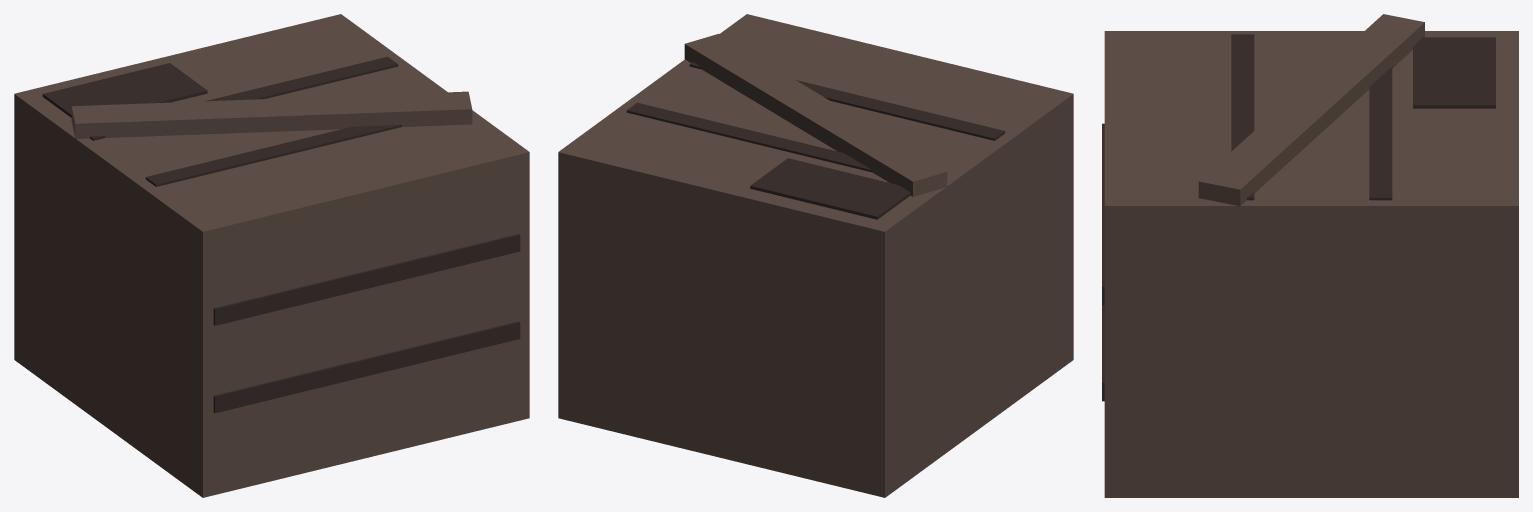
File: oc_wooden_crate.obj
3 views of the same model, side by side, from view 1: azimuth 30°, elevation 25°; view 2: azimuth 150°, elevation 25°; view 3: azimuth 270°, elevation 25° (orthographic). The views are drawn at different scales.
Parts seen in each view (by area): view 1: oc_wooden_crate_0, oc_wooden_crate_5, oc_wooden_crate_3, oc_wooden_crate_4, oc_wooden_crate_6, oc_wooden_crate_1, oc_wooden_crate_2; view 2: oc_wooden_crate_0, oc_wooden_crate_5, oc_wooden_crate_6, oc_wooden_crate_2, oc_wooden_crate_1; view 3: oc_wooden_crate_0, oc_wooden_crate_5, oc_wooden_crate_6, oc_wooden_crate_2, oc_wooden_crate_1, oc_wooden_crate_4.
Boxes of the visible parts, x1,y1,x2,y2 form: oc_wooden_crate_0: (14,14,529,497); oc_wooden_crate_5: (71,91,472,138); oc_wooden_crate_3: (213,321,520,413); oc_wooden_crate_4: (213,234,520,325); oc_wooden_crate_6: (42,63,207,117); oc_wooden_crate_1: (145,124,401,186); oc_wooden_crate_2: (90,56,398,140); oc_wooden_crate_0: (558,14,1073,497); oc_wooden_crate_5: (684,33,947,196); oc_wooden_crate_6: (750,158,910,219); oc_wooden_crate_2: (626,102,872,172); oc_wooden_crate_1: (689,62,1005,140); oc_wooden_crate_0: (1104,31,1518,497); oc_wooden_crate_5: (1198,14,1424,206); oc_wooden_crate_6: (1413,37,1495,108); oc_wooden_crate_2: (1369,66,1392,200); oc_wooden_crate_1: (1231,34,1254,200); oc_wooden_crate_4: (1102,123,1104,305).
Bounding box in the file's own units: 0.9032 × 0.74 × 0.906.
